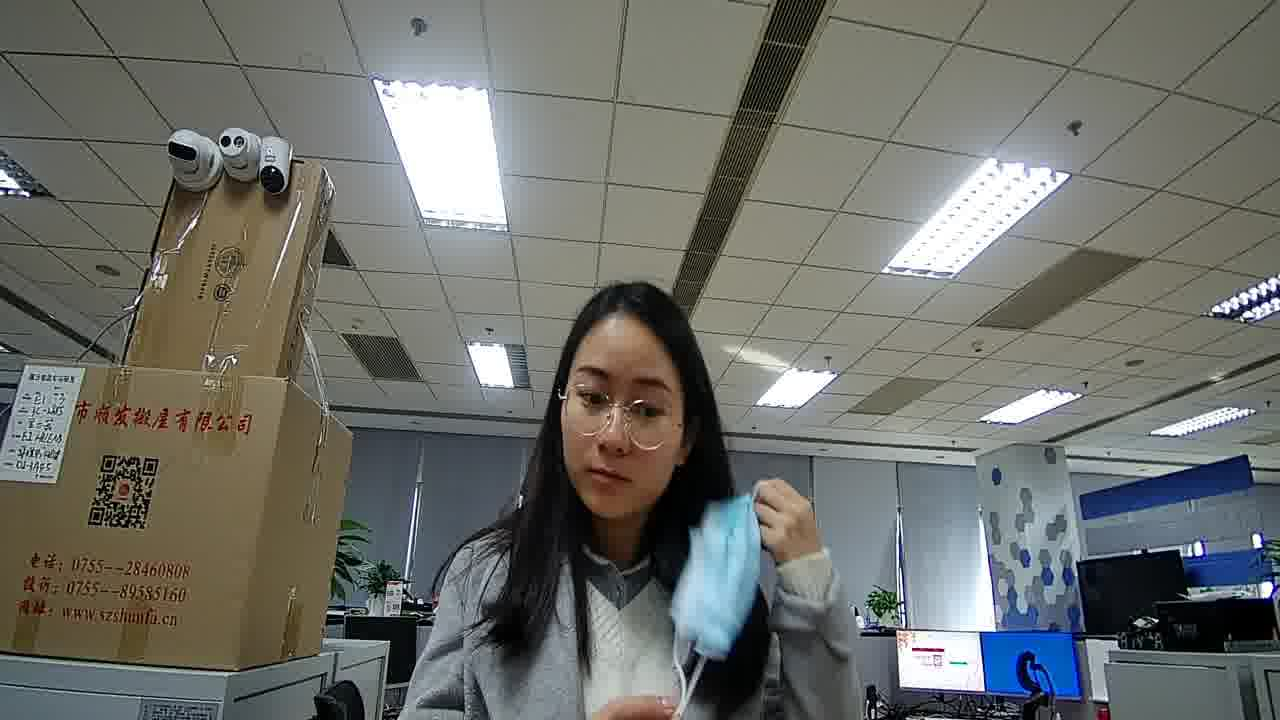face: (559, 322, 688, 519)
person: (431, 262, 779, 633)
